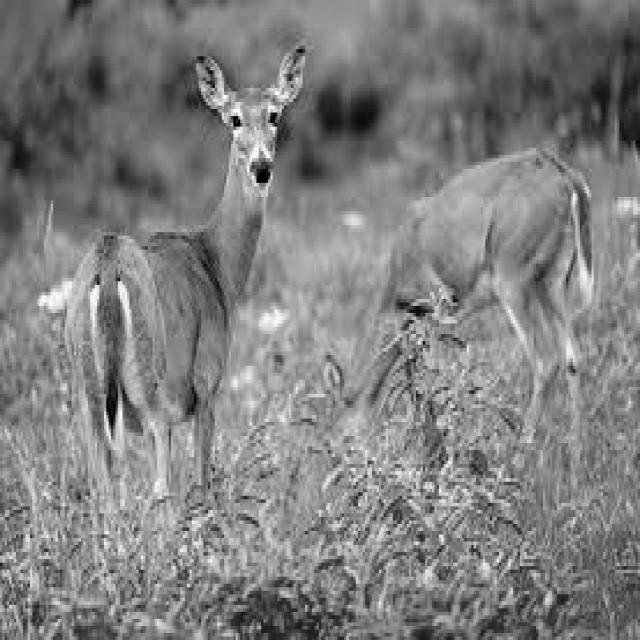Deer: (61, 46, 306, 506), (314, 142, 586, 482)
